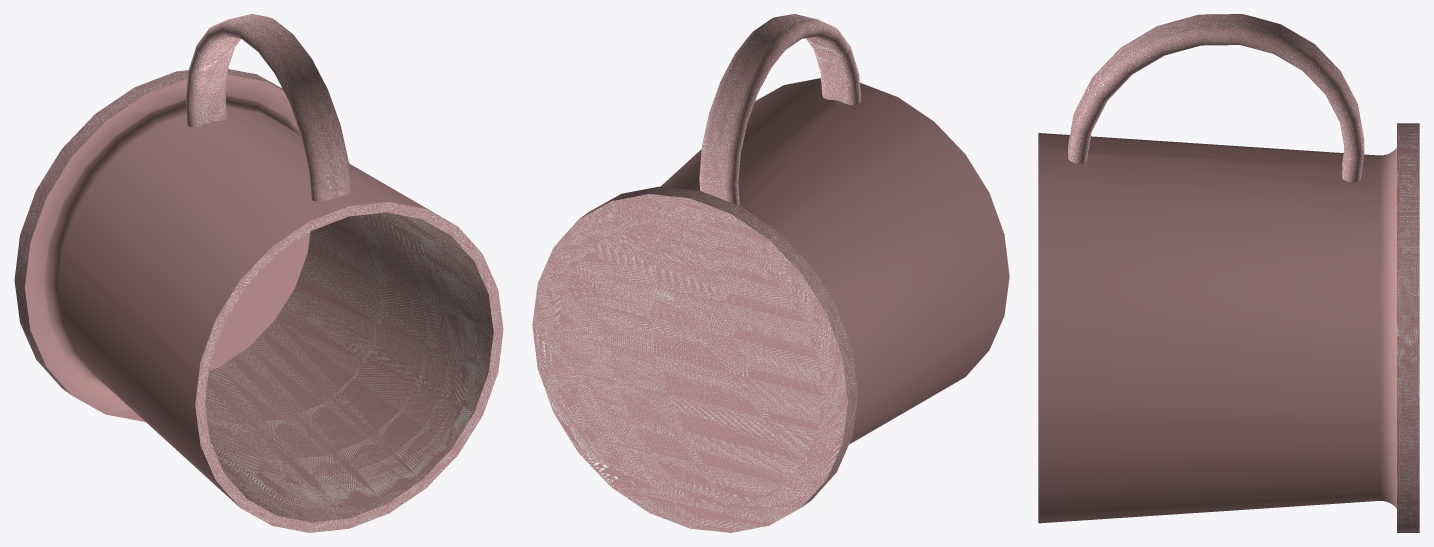
File: model_scale.obj
The picture shows the model from 3 angles, left to right: view 1: azimuth 30°, elevation 25°; view 2: azimuth 150°, elevation 25°; view 3: azimuth 270°, elevation 25°; orthographic projection. The views are drawn at different scales.
Parts seen in each view (by area): view 1: mesh1_mesh1-geometry; view 2: mesh1_mesh1-geometry; view 3: mesh1_mesh1-geometry.
Boxes of the visible parts, box(x1,y1,x2,y2) form: mesh1_mesh1-geometry: box(14, 14, 503, 532); mesh1_mesh1-geometry: box(532, 14, 1009, 532); mesh1_mesh1-geometry: box(1038, 14, 1419, 532).
Size of the model in its own units: 0.0898 by 0.1189 by 0.0833.
